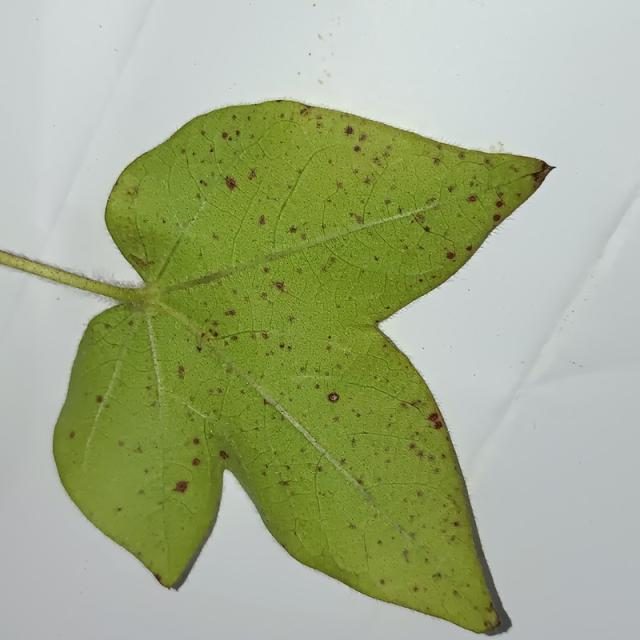Bacterial_Blight: (323, 388, 342, 407), (129, 253, 150, 269), (143, 301, 161, 319), (532, 168, 548, 184), (172, 479, 189, 494), (224, 176, 238, 191), (540, 162, 552, 174), (351, 213, 364, 224), (427, 412, 439, 423), (274, 281, 285, 291), (415, 213, 426, 223), (466, 194, 478, 203), (299, 106, 309, 116), (432, 420, 443, 429), (248, 169, 257, 180), (485, 619, 494, 630), (177, 365, 185, 377), (402, 549, 410, 561), (133, 445, 143, 454), (192, 457, 201, 466), (345, 126, 354, 135), (219, 450, 228, 459), (485, 158, 494, 167), (458, 151, 467, 160), (258, 215, 266, 225), (288, 225, 298, 233), (225, 309, 236, 316), (446, 252, 455, 260), (495, 200, 504, 208), (492, 214, 501, 222), (359, 133, 367, 142), (447, 185, 456, 193), (363, 177, 372, 185), (279, 480, 289, 487), (353, 145, 361, 153), (192, 437, 200, 445), (260, 292, 268, 300), (356, 477, 364, 485), (199, 179, 207, 187), (287, 315, 295, 323), (486, 606, 494, 614), (432, 572, 441, 579), (263, 266, 270, 274), (433, 158, 441, 165), (96, 395, 103, 403), (261, 332, 269, 339), (332, 416, 340, 423), (154, 574, 161, 582), (213, 233, 220, 241), (315, 113, 323, 120), (416, 450, 424, 457), (221, 132, 228, 139), (413, 586, 420, 593), (417, 490, 424, 497), (118, 440, 125, 447), (384, 198, 391, 205), (337, 182, 344, 189), (212, 331, 219, 338), (138, 488, 145, 495), (127, 319, 134, 326), (263, 398, 270, 405), (296, 267, 303, 274), (339, 458, 346, 465), (348, 523, 356, 529), (69, 430, 75, 438), (452, 521, 460, 527), (301, 233, 307, 240), (196, 345, 202, 352), (235, 130, 241, 137), (279, 342, 285, 349), (466, 245, 473, 251), (326, 345, 332, 352), (212, 320, 219, 326), (453, 590, 459, 597), (216, 387, 222, 394), (300, 366, 307, 372), (317, 466, 323, 472), (379, 579, 385, 585), (409, 443, 415, 449), (374, 255, 379, 262), (315, 384, 320, 390), (232, 114, 237, 120), (385, 305, 391, 310), (117, 507, 122, 512), (419, 278, 424, 283), (328, 335, 332, 339)
Cotton: (0, 100, 551, 634)
